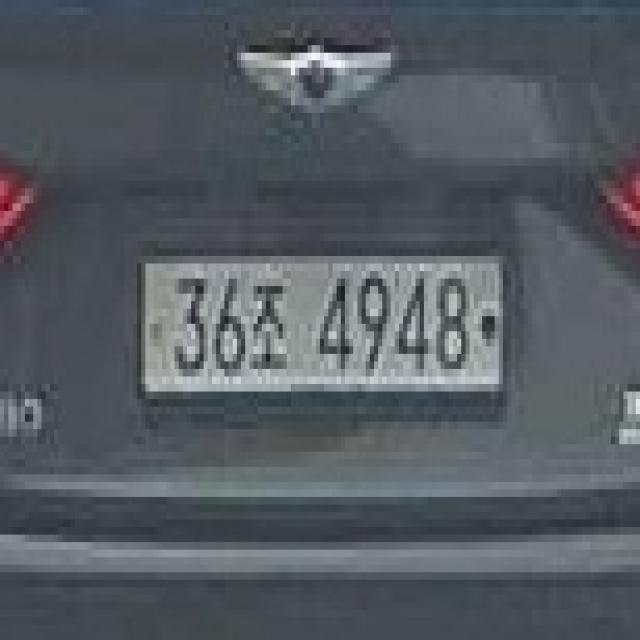3: (166, 271, 208, 377)
4: (316, 279, 353, 369), (395, 279, 428, 369)
6: (212, 279, 249, 384)
8: (432, 271, 466, 377)
9: (358, 271, 390, 377)
jo: (245, 278, 287, 376)
license_plate: (137, 241, 507, 407)
